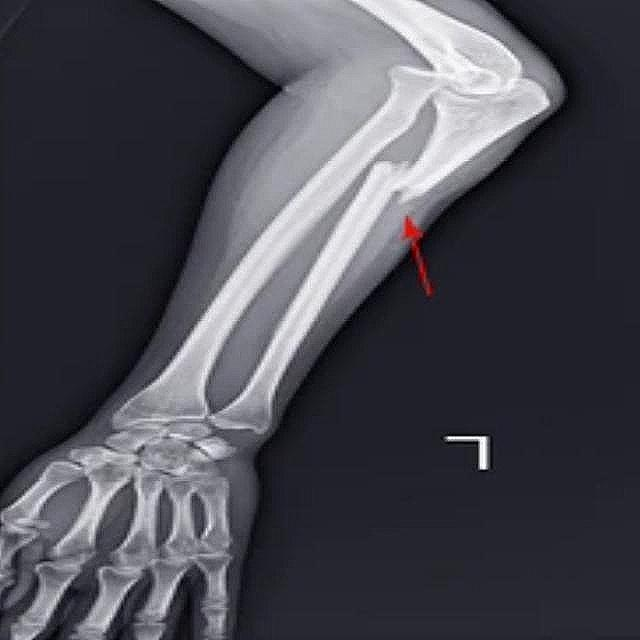bone: (355, 151, 440, 209)
